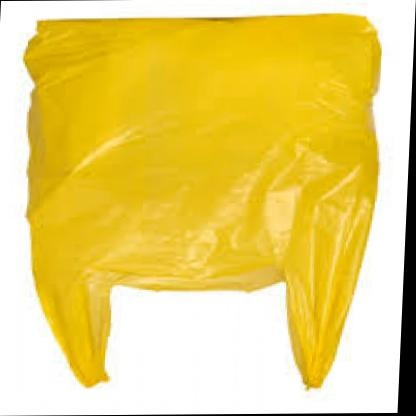trash: (24, 14, 380, 387)
